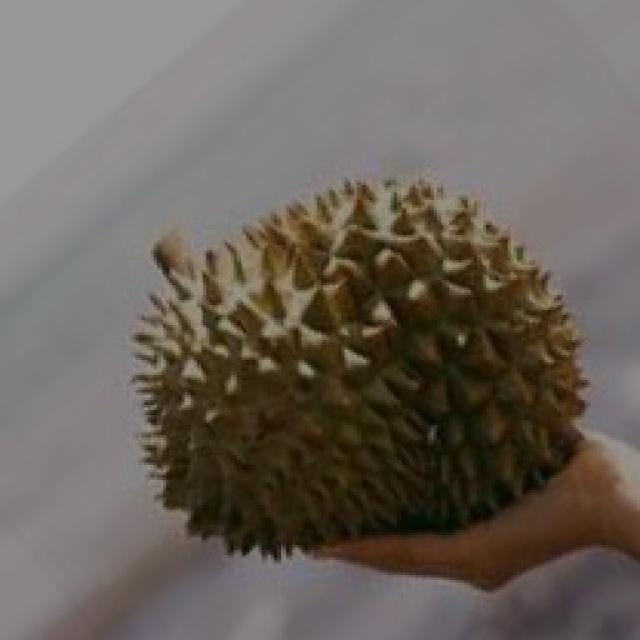fruit: (80, 188, 449, 598), (274, 163, 634, 575)
